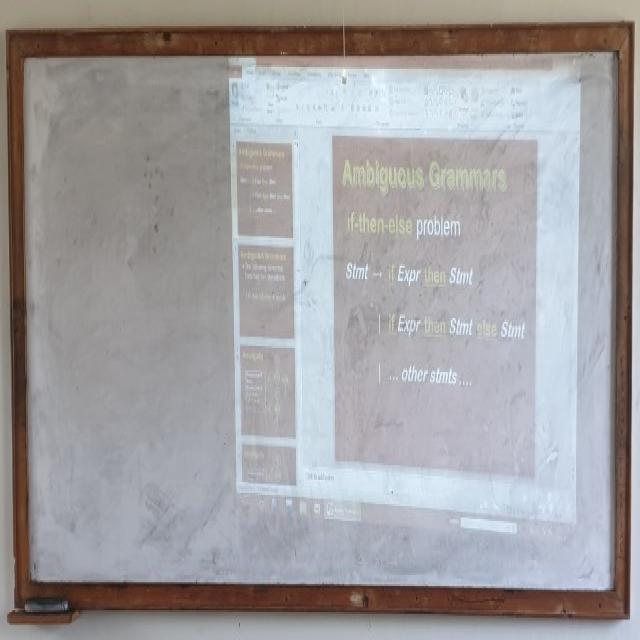Slide: (227, 51, 583, 547)
White-board: (13, 38, 629, 605)
